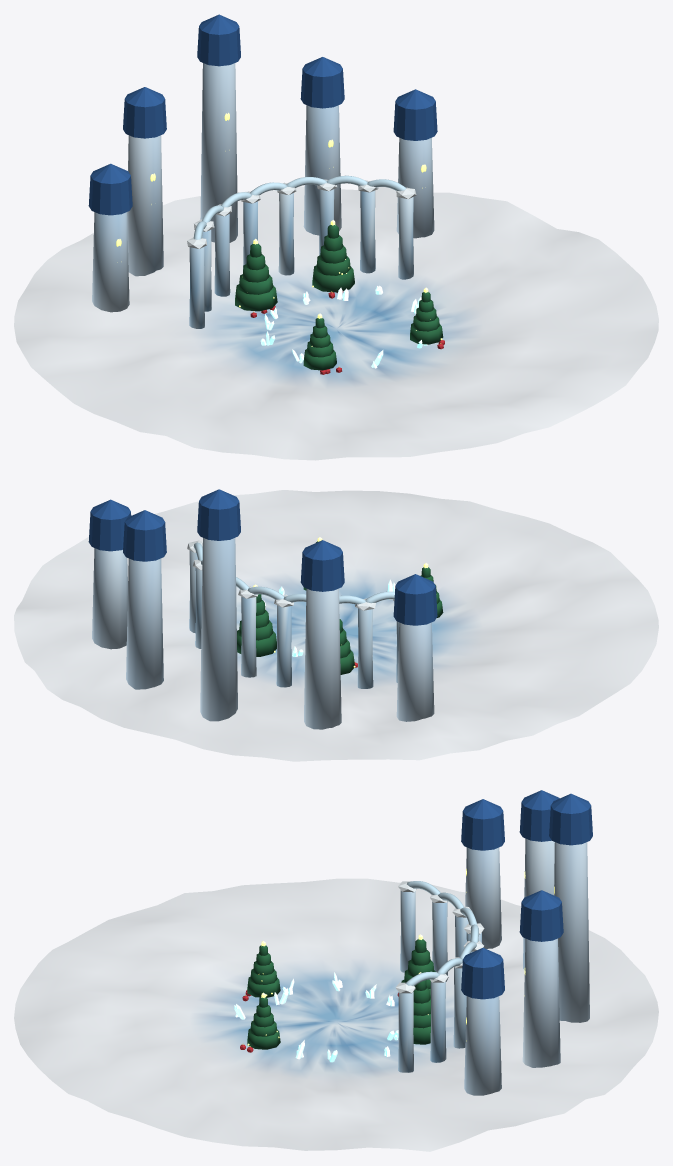
The model's file is arena-frost-xmas.33a0b9ca4d.glb.
3 renders of one model, top to bottom at view 1: azimuth 30°, elevation 25°; view 2: azimuth 150°, elevation 25°; view 3: azimuth 270°, elevation 25°, orthographic.
Visible parts, largest first — view 1: Arena; view 2: Arena; view 3: Arena.
Part boxes in pixels (bbox=[...]): Arena: bbox=[14, 14, 658, 460]; Arena: bbox=[14, 489, 658, 761]; Arena: bbox=[14, 790, 658, 1151].
Bounding box in the file's own units: 44 × 17.28 × 44.
